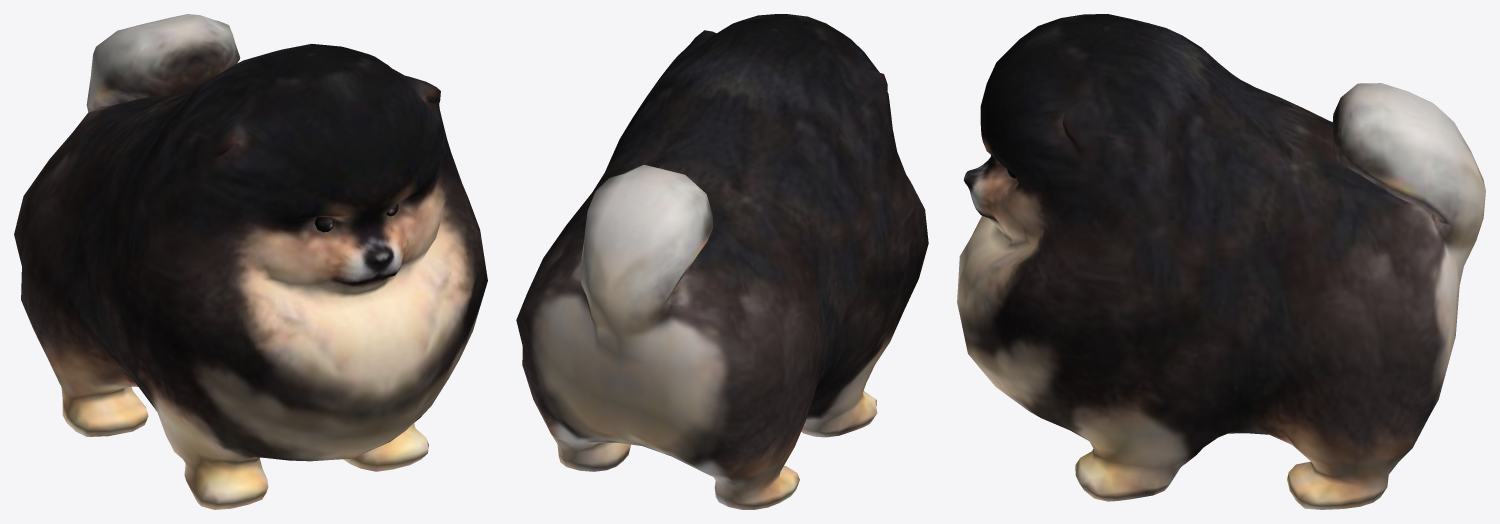
Rendered from Dog5_sample.fbx.
3 renders of one model, left to right at view 1: azimuth 30°, elevation 25°; view 2: azimuth 150°, elevation 25°; view 3: azimuth 270°, elevation 25°, orthographic. The views are drawn at different scales.
Parts seen in each view (by area): view 1: Final_furFull_Dog5; view 2: Final_furFull_Dog5; view 3: Final_furFull_Dog5.
Boxes of the visible parts, left/top/right/bottom form: Final_furFull_Dog5: left=14, top=14, right=487, bottom=509; Final_furFull_Dog5: left=516, top=14, right=928, bottom=509; Final_furFull_Dog5: left=957, top=14, right=1485, bottom=509.
Size of the model in its own units: 33.08 by 42.2 by 48.02.
Materials: 1 (1 with a texture image).
